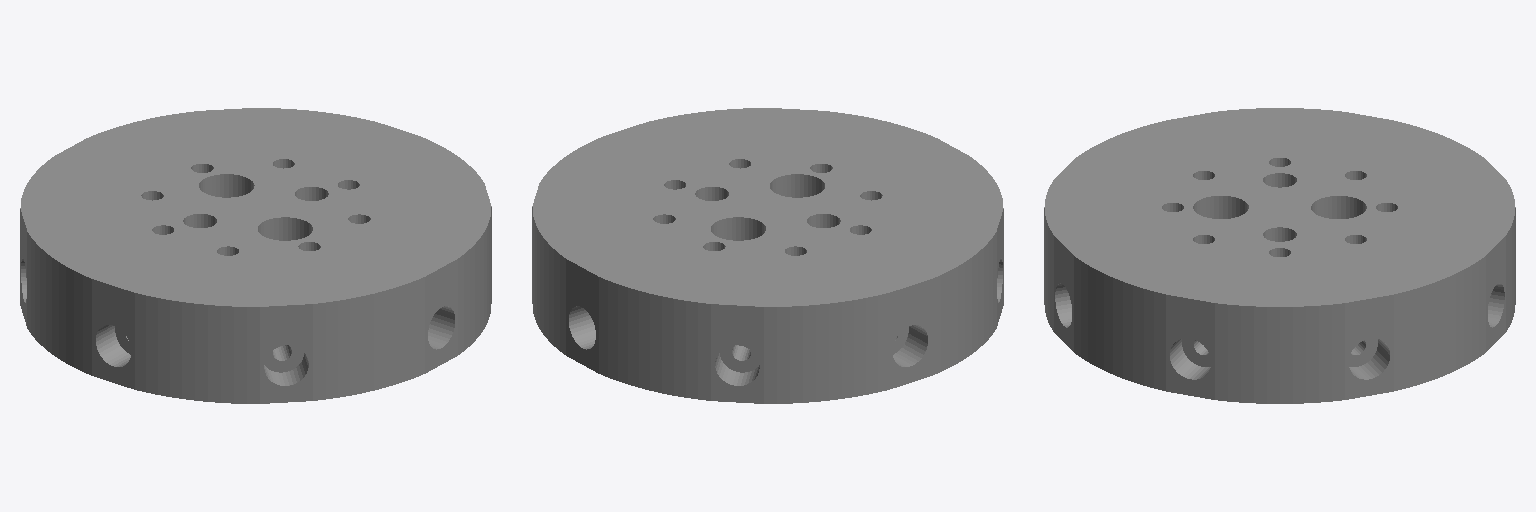
robot.urdf — olv-xbolt:
<?xml version="1.0"?>
<robot name="olv-xbolt">
  <link name="base_link">
    <visual>
      <geometry>
        <mesh filename="package://olive_components_description/meshes/olv-xbolt.dae"/>
      </geometry>
    </visual>
    <collision>
      <geometry>
        <cylinder length="0.01" radius="0.022" />
      </geometry>
      <origin rpy="0 0 0" xyz="0 0 0.005" />
    </collision>
  </link>
</robot>

--- What the picture shows (computed from the rendered views, not written in the file) ---
The picture shows the robot from 3 angles, left to right: view 1: azimuth 30°, elevation 25°; view 2: azimuth 150°, elevation 25°; view 3: azimuth 270°, elevation 25°; orthographic projection.
Robot: olv-xbolt — 1 links, 0 joints (none); root link base_link; default pose: every joint at zero.
Visible links, largest first — view 1: base_link; view 2: base_link; view 3: base_link.
Link boxes in pixels (x1,y1,x2,y2): base_link: (20,108,491,403); base_link: (532,108,1003,403); base_link: (1044,108,1515,403).
Bounding box of the posed robot: 0.044 × 0.044 × 0.01 m (x, y, z).
1 mesh visuals loaded from 1 distinct referenced files (1 Collada DAE).